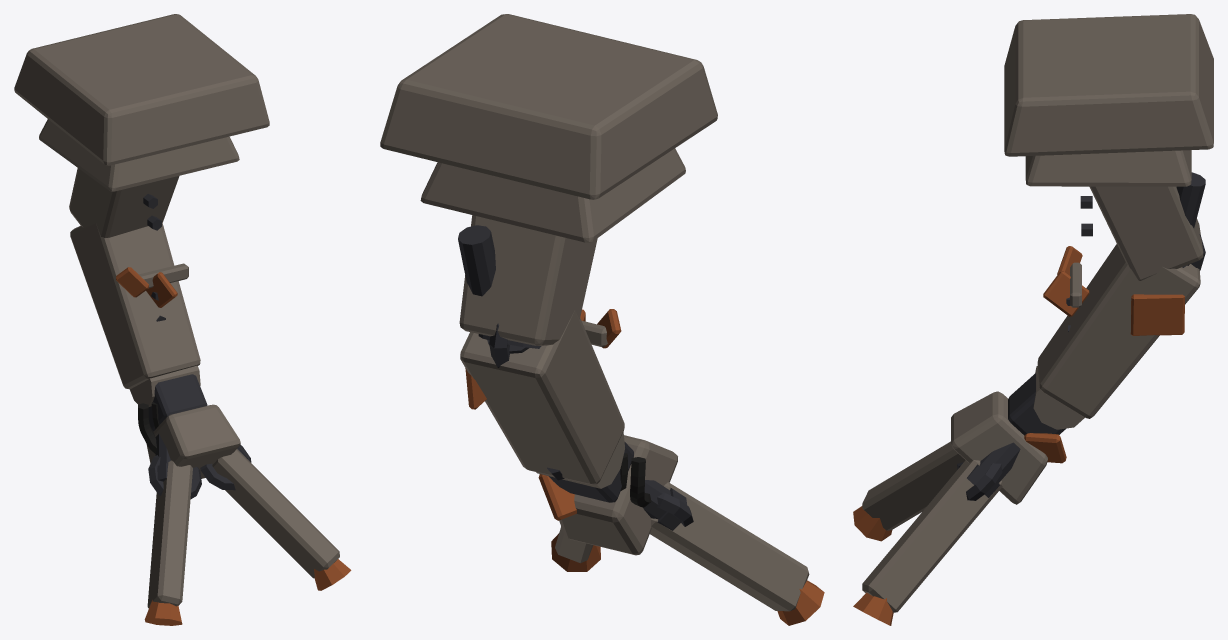
The model's file is ar_ripper.glb.
3 renders of one model, left to right at view 1: azimuth 30°, elevation 25°; view 2: azimuth 150°, elevation 25°; view 3: azimuth 270°, elevation 25°, orthographic. The views are drawn at different scales.
Visible parts, largest first — view 1: ar_ripper; view 2: ar_ripper; view 3: ar_ripper.
Boxes of the visible parts, left/top/right/bottom form: ar_ripper: left=14, top=14, right=351, bottom=625; ar_ripper: left=380, top=14, right=824, bottom=625; ar_ripper: left=853, top=14, right=1213, bottom=625.
Size of the model in its own units: 0.2439 by 0.5431 by 0.3365.
